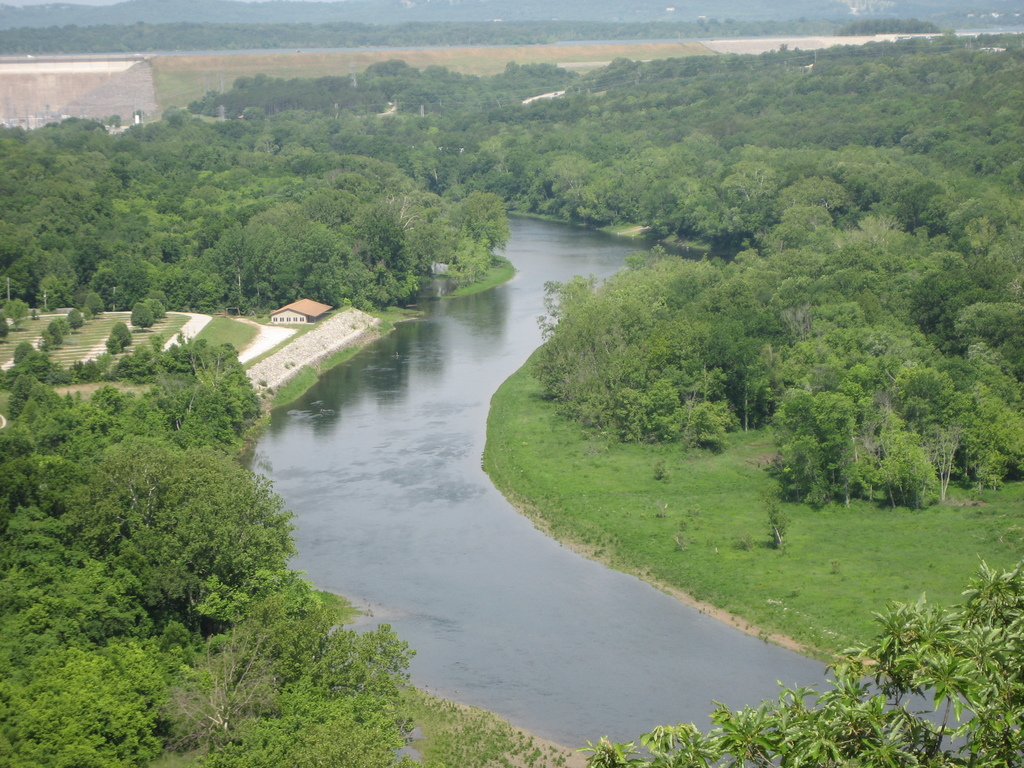Tree: (0, 14, 1024, 768)
